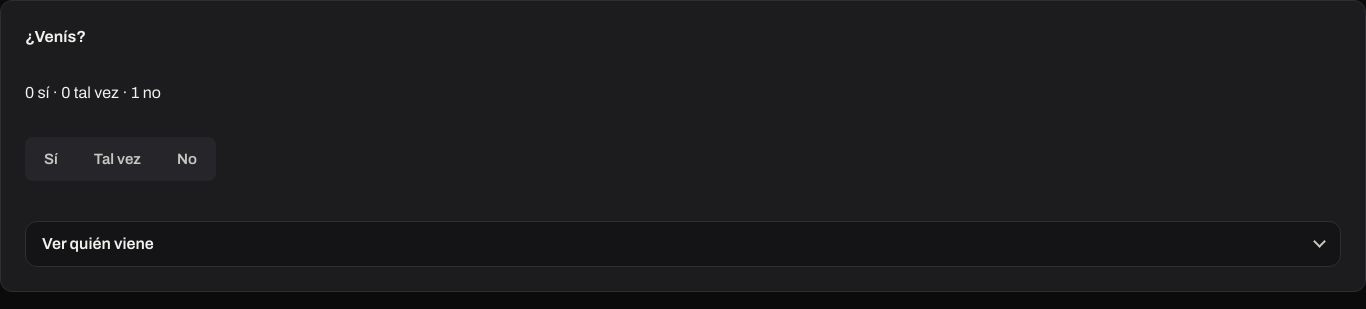
Scenario: AttendanceCard › sends the answer and shows the new counts
Expected: the text "0 sí · 0 tal vez · 1 no" is shown, left=25, top=84, right=161, bottom=101
Click the button "Sí" at point(51, 159), box left=28, top=140, right=74, bottom=178
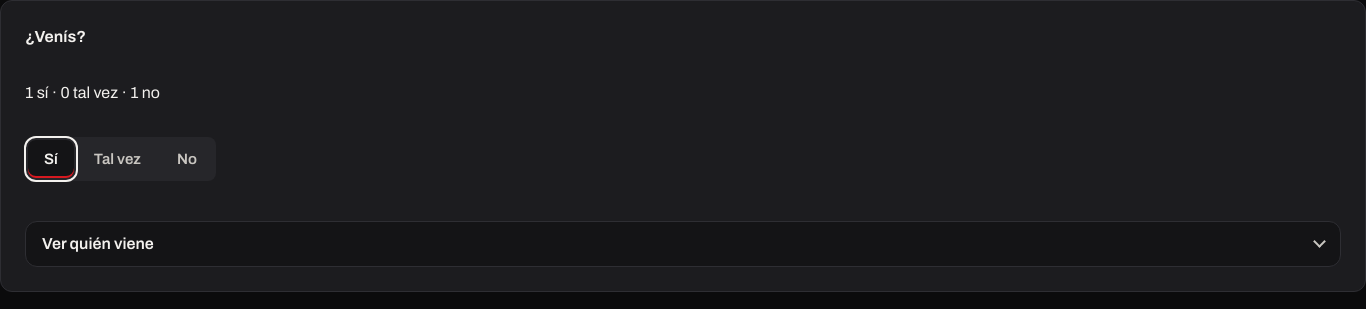
Expected: the text "1 sí · 0 tal vez · 1 no" is shown, left=25, top=84, right=160, bottom=101
